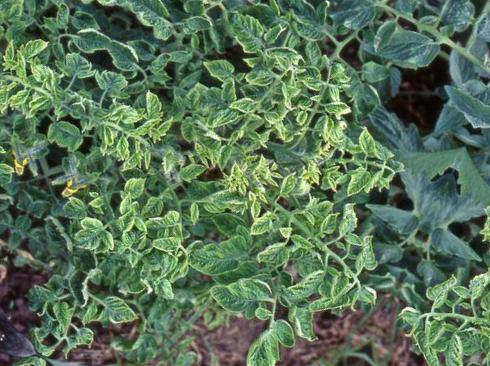Tomato mold leaf: (182, 220, 257, 294), (198, 259, 273, 327), (274, 0, 391, 42), (230, 309, 307, 366), (185, 76, 250, 136), (118, 0, 190, 48), (215, 4, 273, 59), (67, 212, 121, 267), (276, 298, 332, 351), (276, 256, 327, 311), (100, 32, 153, 80), (97, 290, 148, 335), (195, 46, 244, 92), (244, 205, 280, 245), (134, 90, 170, 130), (175, 153, 209, 189), (148, 228, 185, 261), (121, 167, 154, 203), (159, 0, 230, 15), (230, 0, 292, 15)
